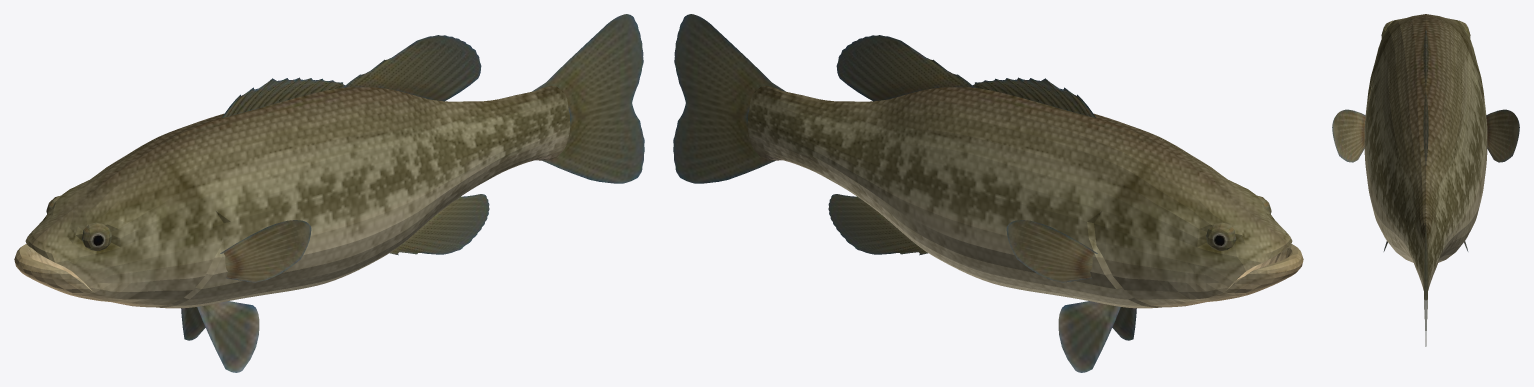
Rendered from carp.glb.
3 renders of one model, left to right at view 1: azimuth 30°, elevation 25°; view 2: azimuth 150°, elevation 25°; view 3: azimuth 270°, elevation 25°, orthographic. The views are drawn at different scales.
Size of the model in its own units: 2.5 by 1.02 by 0.6972.
1 material, 1 textured.
